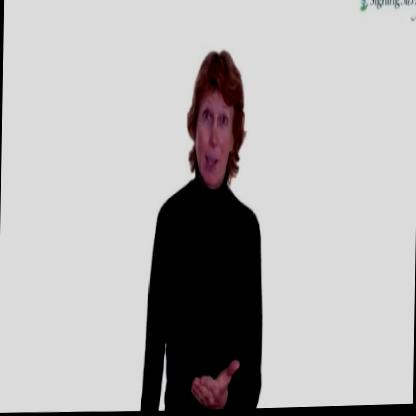ThankYou: (139, 46, 270, 413)
